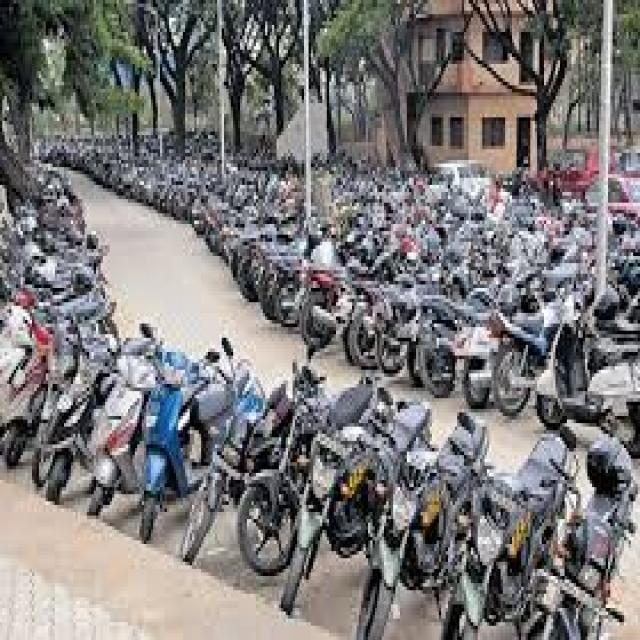No Parking: (111, 68, 640, 418)
